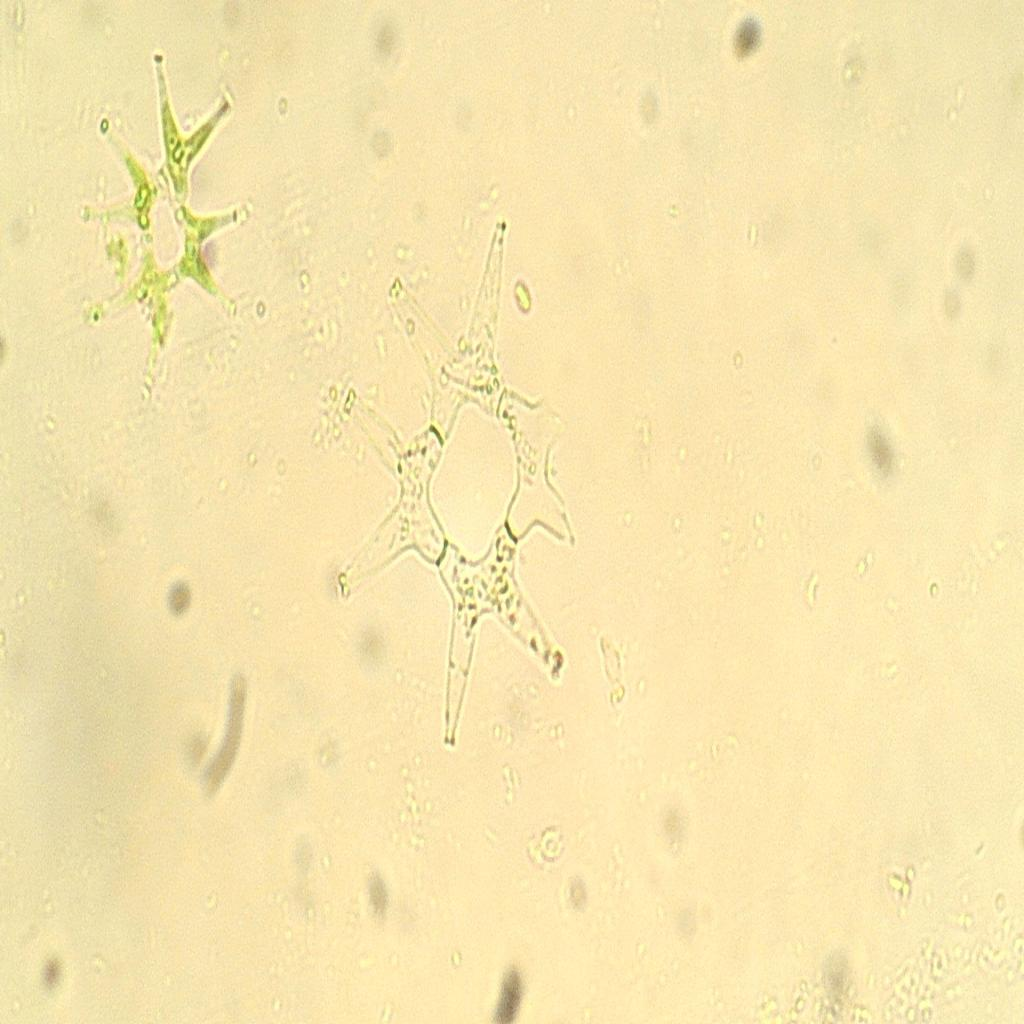Pediastrum_75TH: (303, 204, 619, 784)
